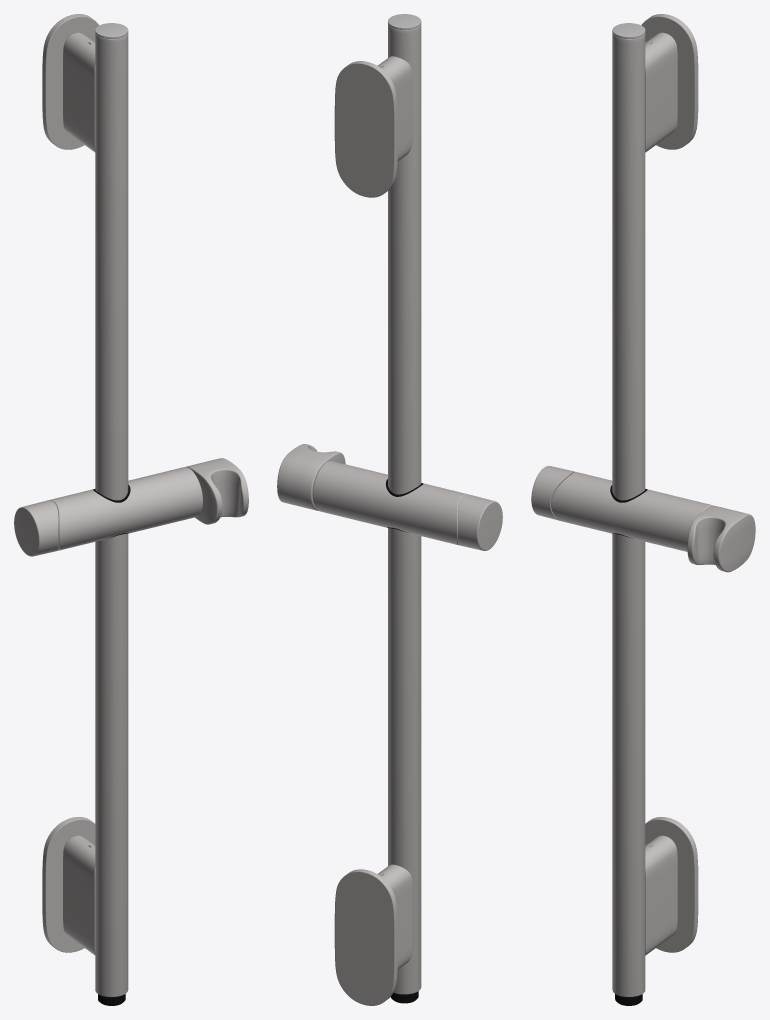
3 views of the same model, side by side, from view 1: azimuth 30°, elevation 25°; view 2: azimuth 150°, elevation 25°; view 3: azimuth 330°, elevation 25° (orthographic).
Visible parts, largest first — view 1: 26314; view 2: 26314; view 3: 26314.
Part boxes in pixels (x1,y1,x2,y2): 26314: [14, 14, 248, 1005]; 26314: [277, 14, 502, 1005]; 26314: [531, 14, 755, 1005].
Size of the model in its own units: 6.95 by 31.93 by 3.78.
Materials: 1 (1 with a texture image).
